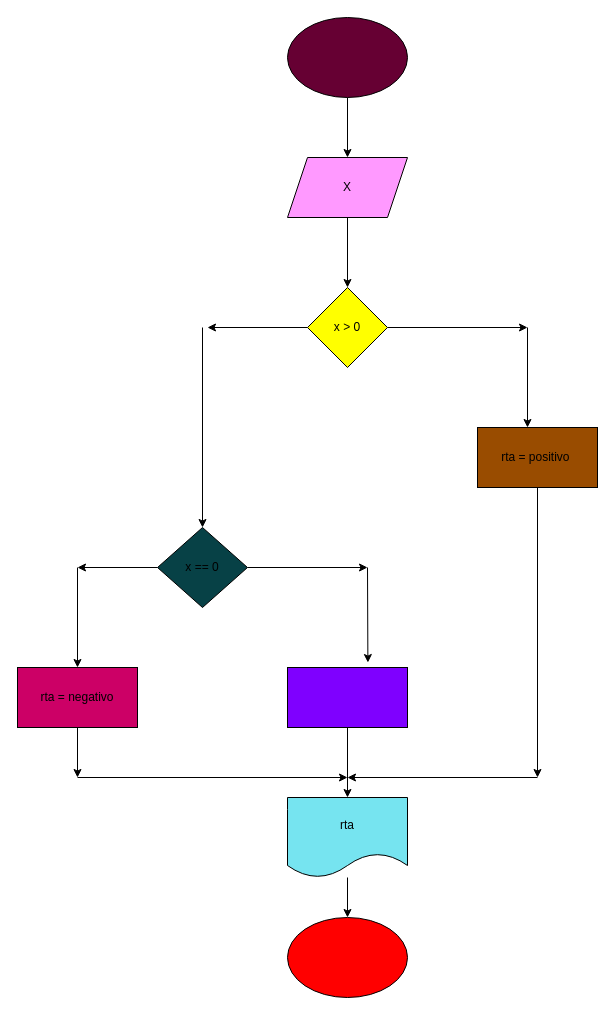
This 615x1015 diagram has some shape labels left out. Here are the shapes that lost their labels. From the top down, the centre of each, then its label:
At pixel 347 57: "INICIO".
At pixel 347 697: "rta= neutro".
At pixel 347 957: "final".
